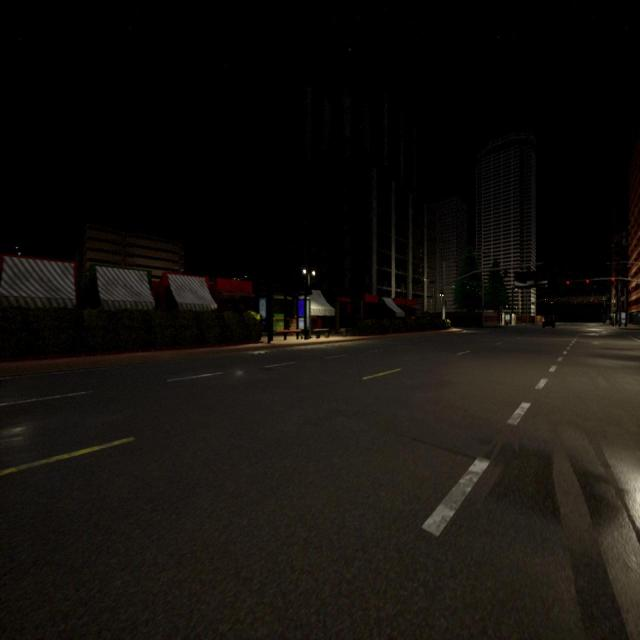Vehicle: (542, 317, 556, 328)
traffic_light: (566, 280, 570, 285), (611, 277, 615, 282), (586, 279, 589, 283), (467, 286, 469, 289), (584, 300, 586, 303), (595, 300, 597, 303), (575, 300, 576, 304)
